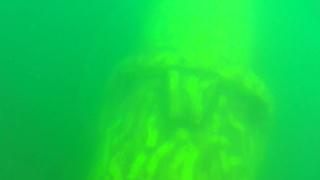pipe: (83, 1, 278, 179)
